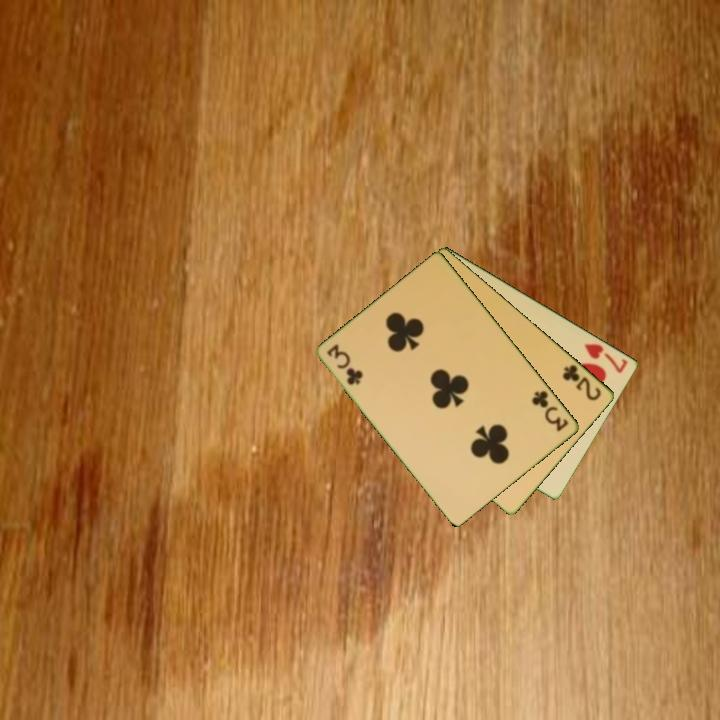2c: (559, 361, 605, 404)
3c: (528, 387, 572, 435), (324, 340, 366, 388)
7h: (581, 340, 631, 376)
